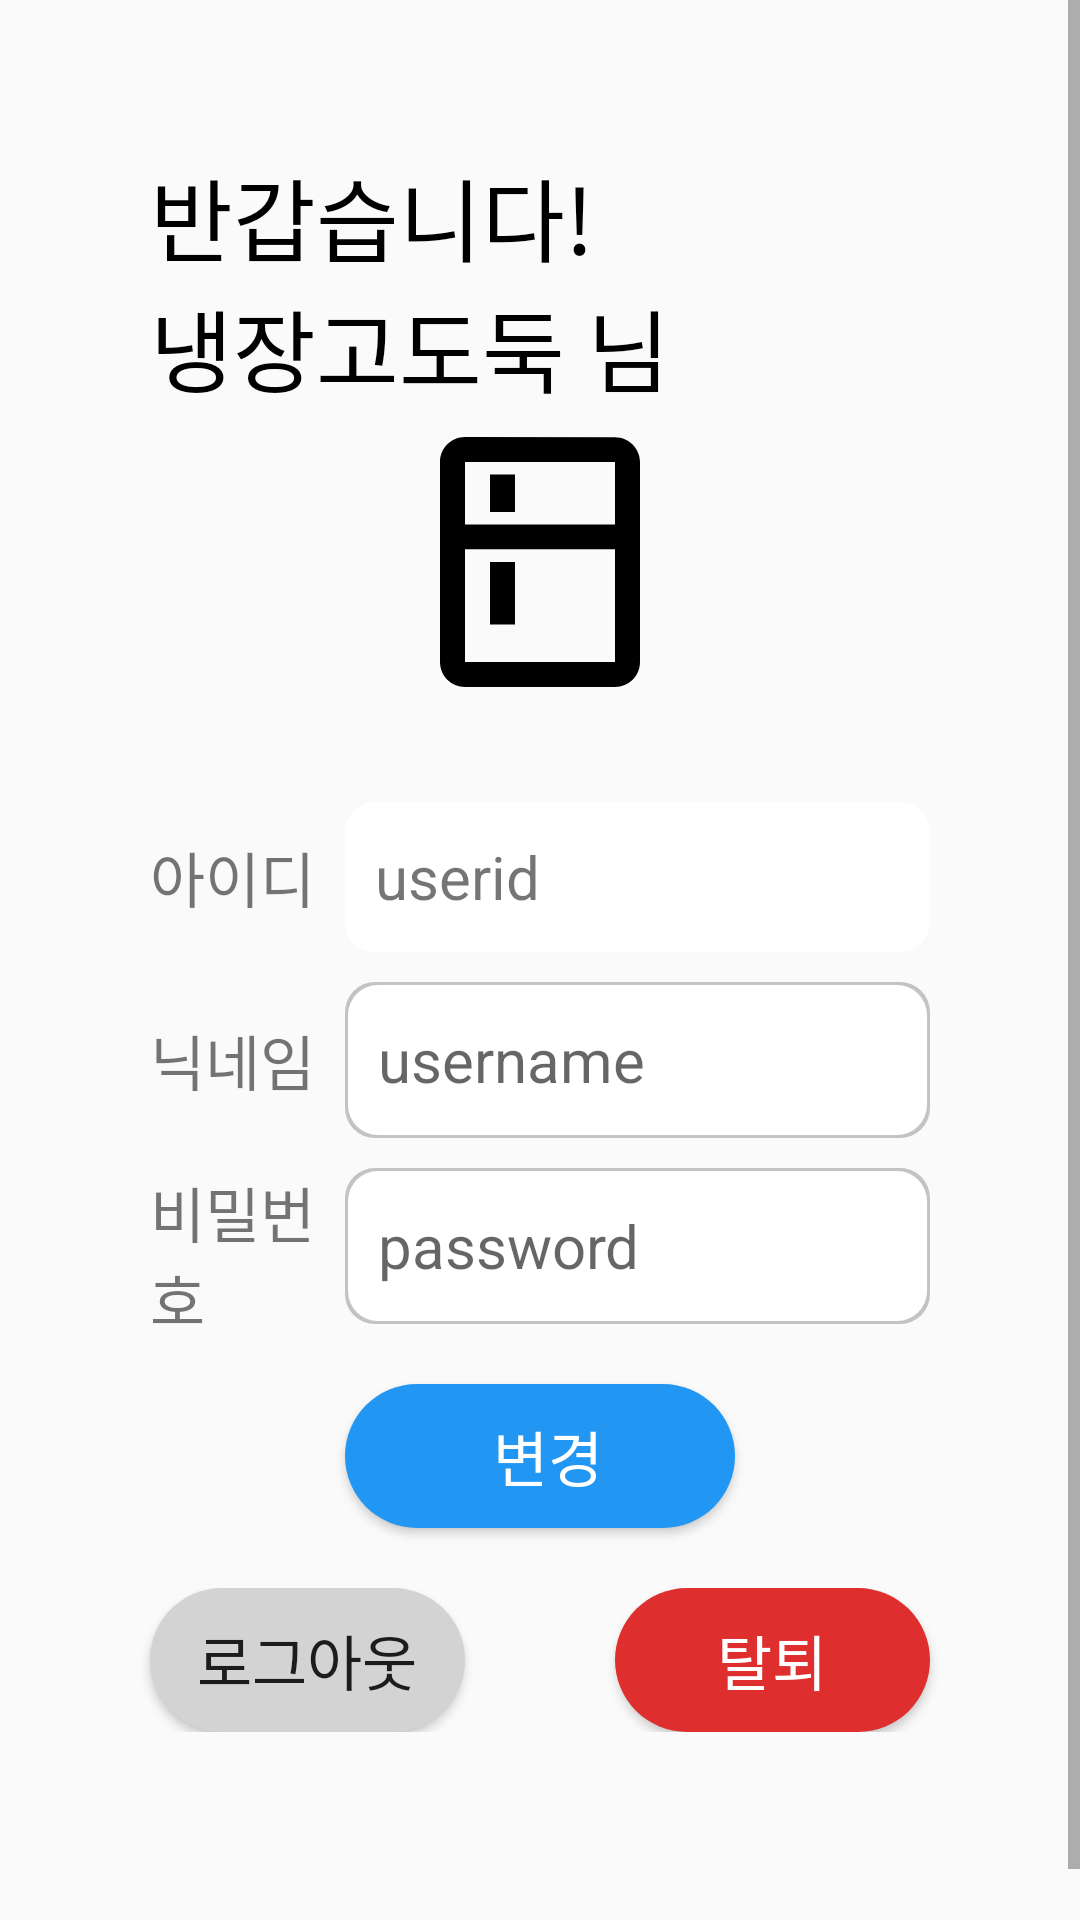

Icons on this 1080px x 1920px Android screen, each with the point to tap as (x=x, y=y):
kitchen: (x=540, y=562)
